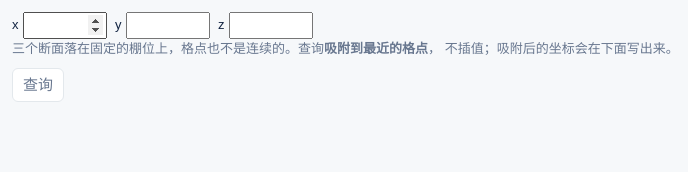
Test: SectionAsk › 清空一格之后立刻点不动 —— 空串不许当 0
Type "0.7" into the number field labelled "x". click: (65, 25)
box: [22,12,107,39]
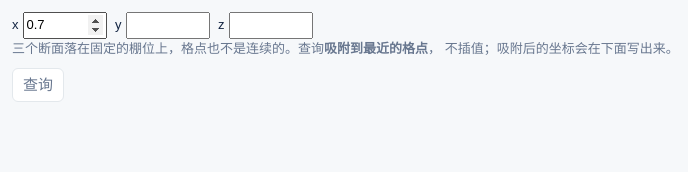
Type "3" into the number field labelled "y". click: (168, 25)
box: [126,12,210,39]
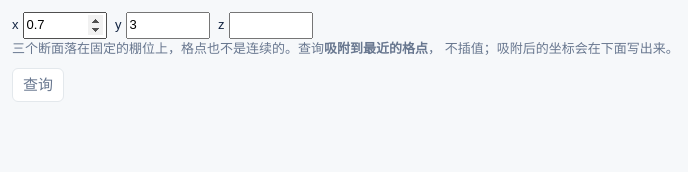
Type "0.7" into the number field labelled "z". click: (271, 25)
box: [228,12,313,39]
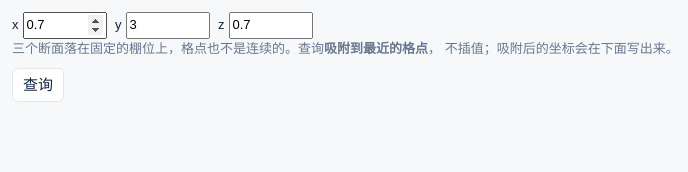
Clear the number field labelled "y". click: (168, 25)
box: [126,12,210,39]
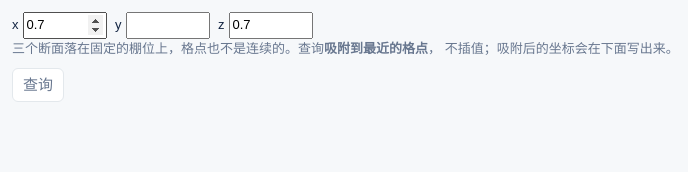
Now the button "查询" is disabled, box [12,68,64,102]
